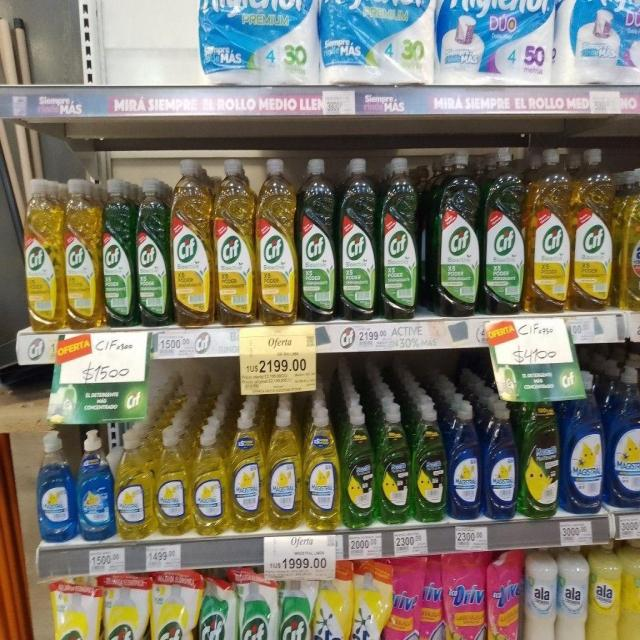ala_conc_amarillo: (620, 163, 640, 310)
ala_crem_amarillo: (588, 540, 619, 640), (620, 538, 640, 640)
ala_crem_blanco: (523, 548, 556, 640), (556, 545, 587, 640)
ala_sachet_amarillo: (349, 559, 385, 640), (312, 568, 348, 640)
cif_conc_bot_amarilla: (571, 145, 615, 311), (528, 147, 570, 313), (171, 157, 212, 326), (256, 156, 297, 325), (214, 156, 254, 325), (24, 176, 63, 331), (64, 177, 100, 329)
cif_conc_botella_verde: (431, 148, 480, 318), (482, 146, 525, 315), (338, 156, 378, 321), (380, 156, 420, 320), (299, 157, 336, 322), (136, 176, 170, 327), (102, 177, 135, 328)
cif_conc_sachet_amarillo: (150, 573, 194, 640), (101, 575, 146, 640), (53, 578, 98, 640)
cif_conc_sachet_verde: (238, 572, 276, 640), (197, 575, 236, 640), (278, 574, 310, 640)
drive: (446, 551, 486, 640), (487, 551, 522, 640), (419, 555, 444, 640)
magistral_con_amarillo: (304, 402, 340, 530), (229, 407, 265, 532), (267, 405, 302, 530), (116, 428, 152, 540), (192, 422, 227, 536), (154, 426, 190, 536)
magistral_con_azul: (562, 372, 604, 514), (607, 364, 640, 509), (36, 430, 75, 543), (483, 400, 518, 520), (448, 400, 482, 520), (77, 429, 113, 542)
